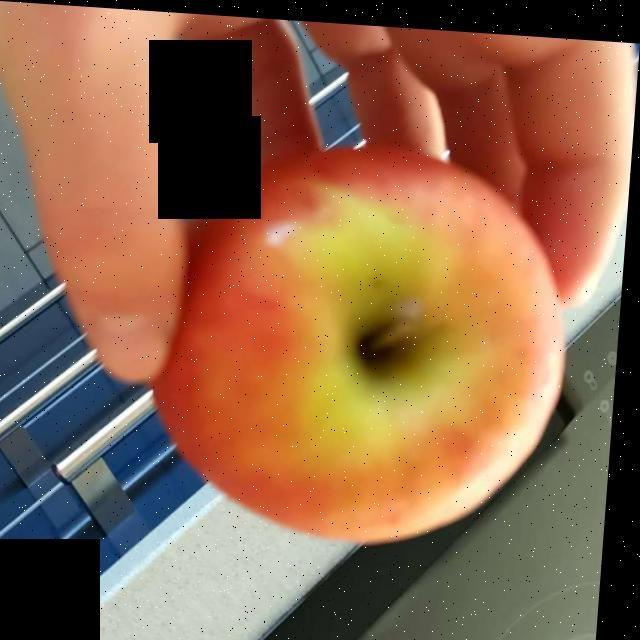apple: (154, 159, 572, 528)
